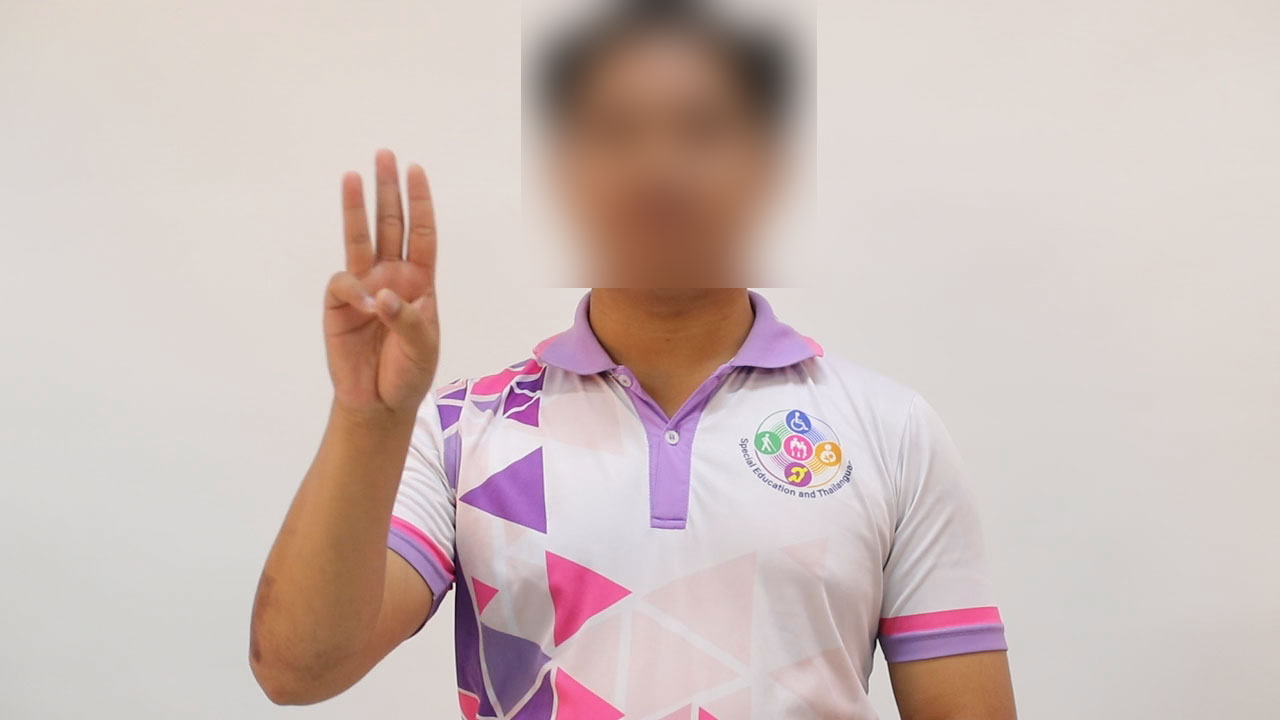wor: (313, 140, 451, 442)
